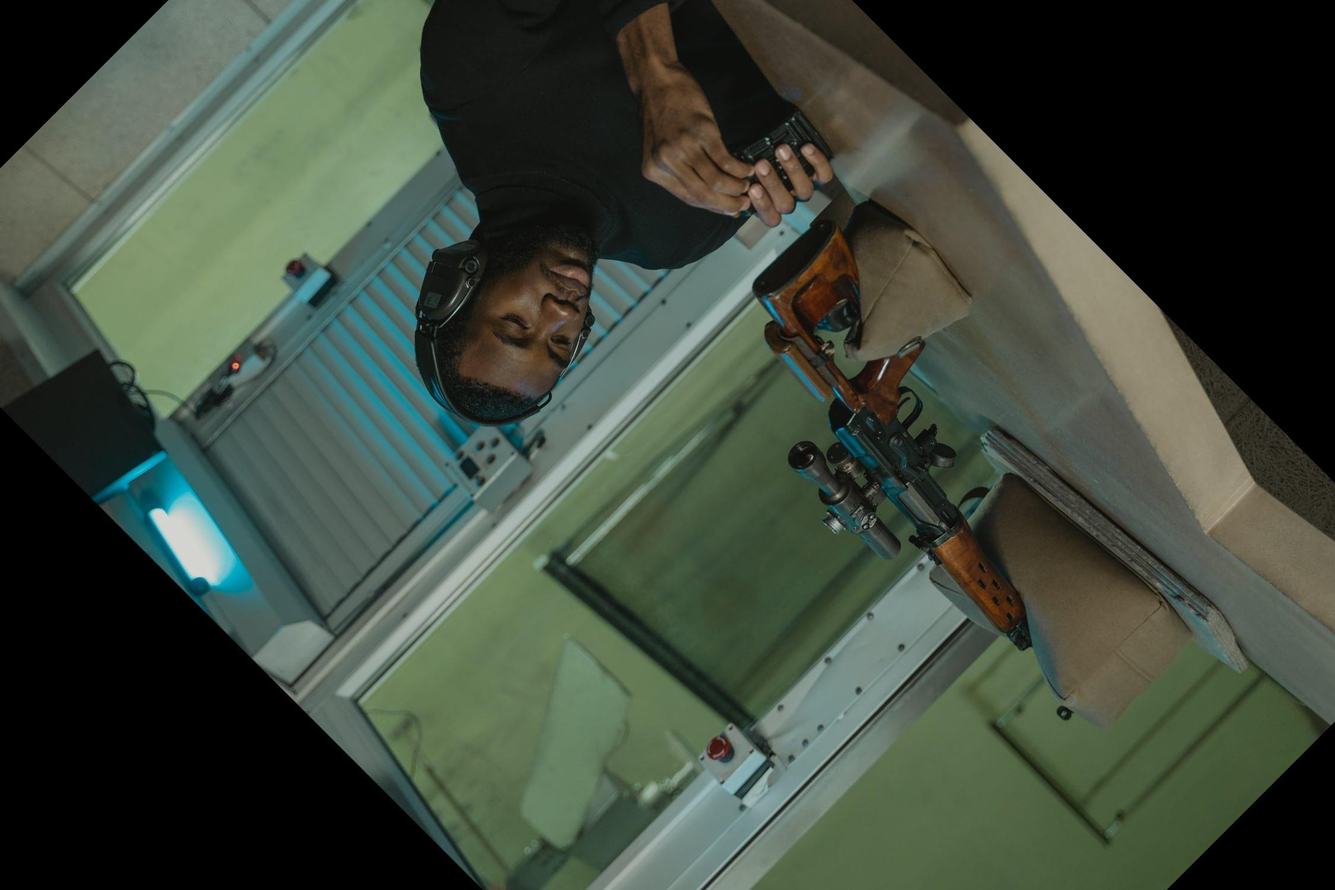larga: (754, 218, 1035, 652)
